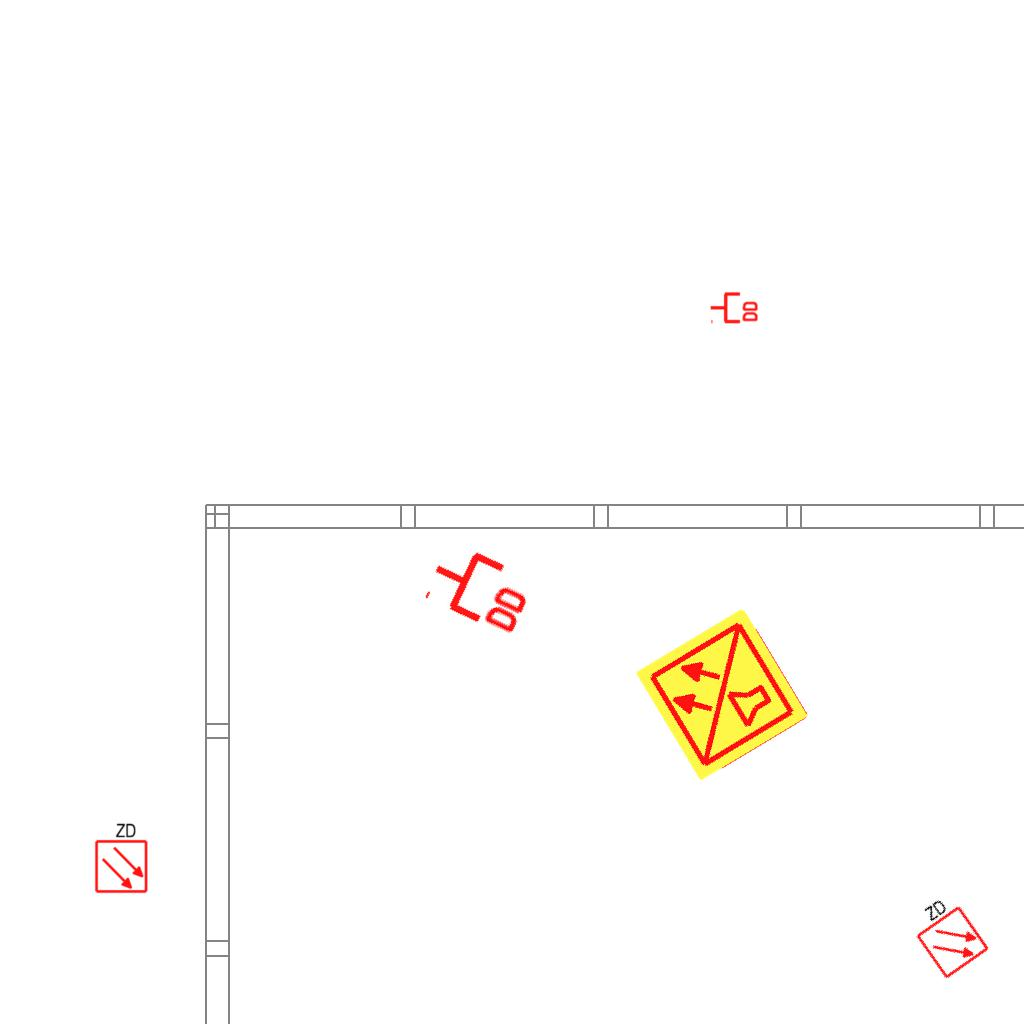Datenanschluss_zweifach: (420, 534, 543, 641), (709, 290, 760, 324)
OKW_Multisensormelder_(Kombination_optischer_Rauch-Kahlenmonoxid_Waerme-Melder): (631, 603, 813, 785)
ZD_Melder_in_Zwischendecke_mit_Revisionsoeffnung_mind_40_x_40_cm: (901, 888, 992, 982), (92, 820, 149, 894)
